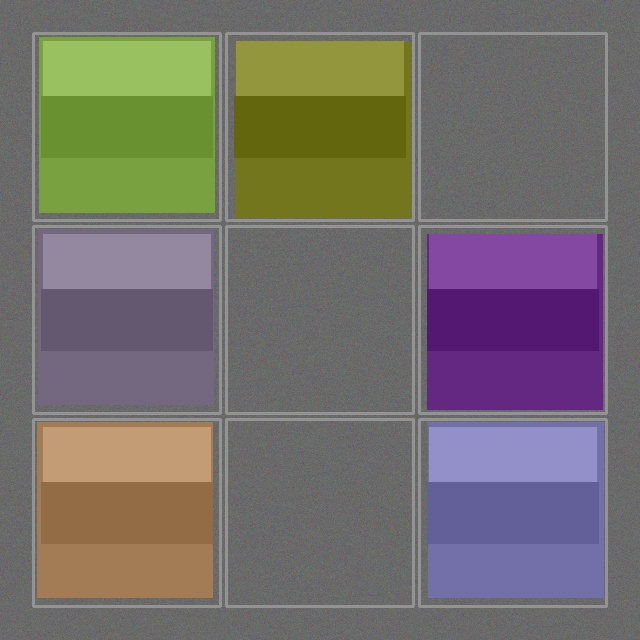space-empty: (421, 35, 604, 218), (228, 228, 411, 411), (228, 421, 411, 604)
space-occupied: (35, 35, 218, 218), (228, 35, 411, 218), (35, 228, 218, 411), (421, 228, 604, 411), (35, 421, 218, 604), (421, 421, 604, 604)
